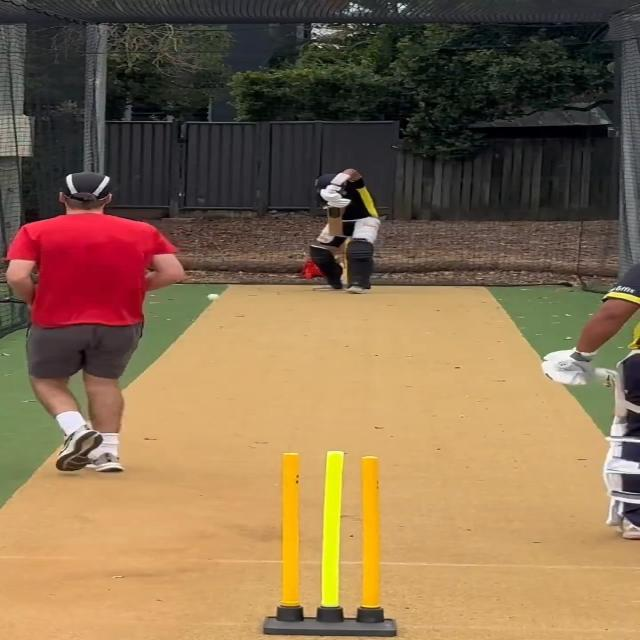ball: (206, 292, 221, 302)
stump: (263, 447, 403, 638)
